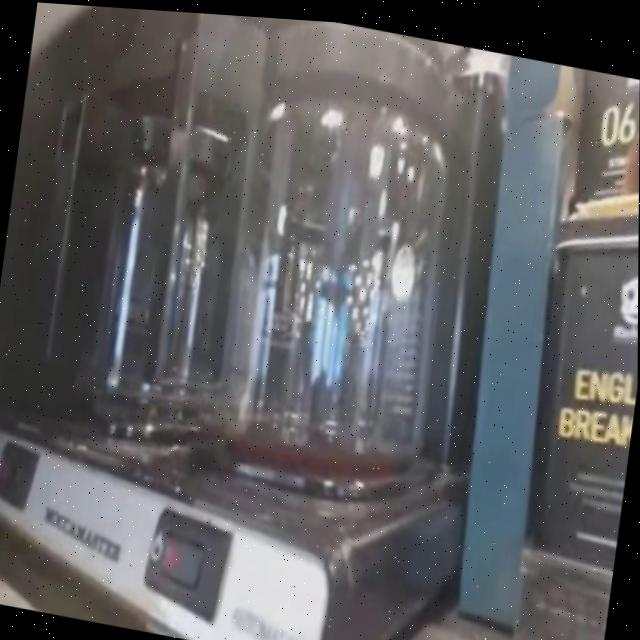nocoffee: (201, 105, 460, 478), (83, 168, 206, 424)
